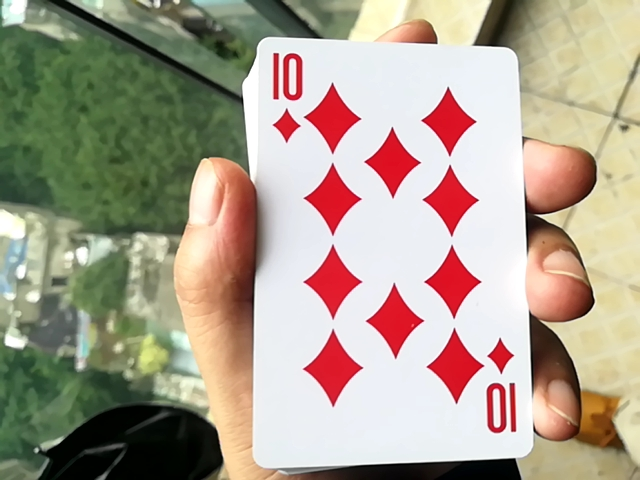fk 10: (239, 24, 536, 471)
